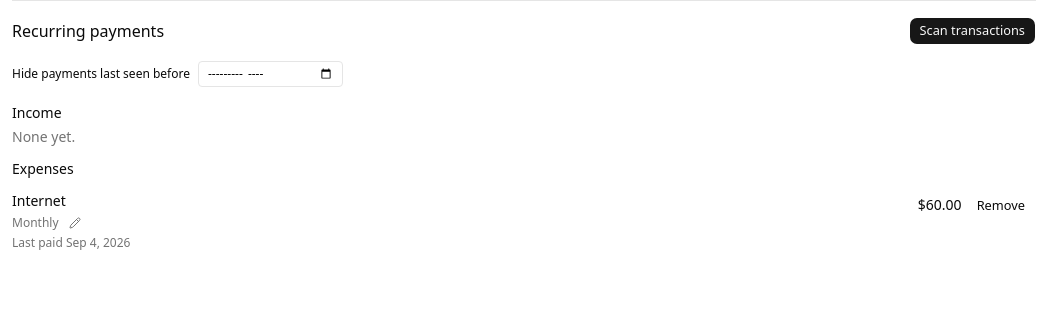
it: recovers from a scan timeout without clearing saved rules
Expected: the text "Internet" is shown, [12,191,66,210]
Click the button "Scan transactions" at (972, 31), box [908,17,1036,45]
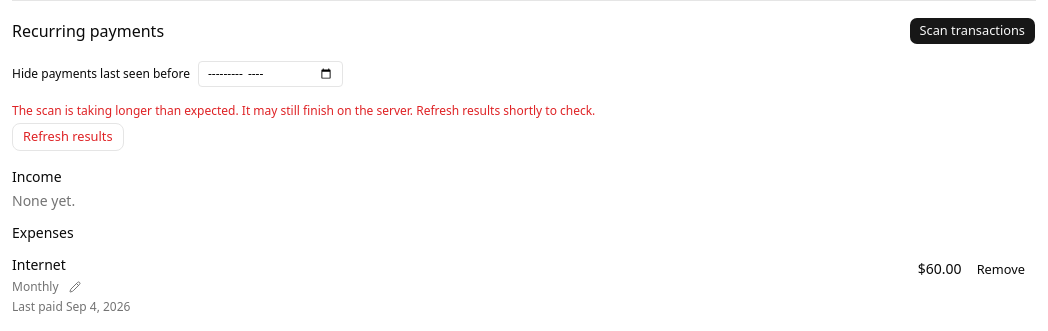
Expected: the message does not show "saved rules are unchanged", [12,102,595,151]
Expected: the message shows "taking longer", [12,102,595,119]
Expected: the button "Refresh results" is enabled, [12,123,124,151]
